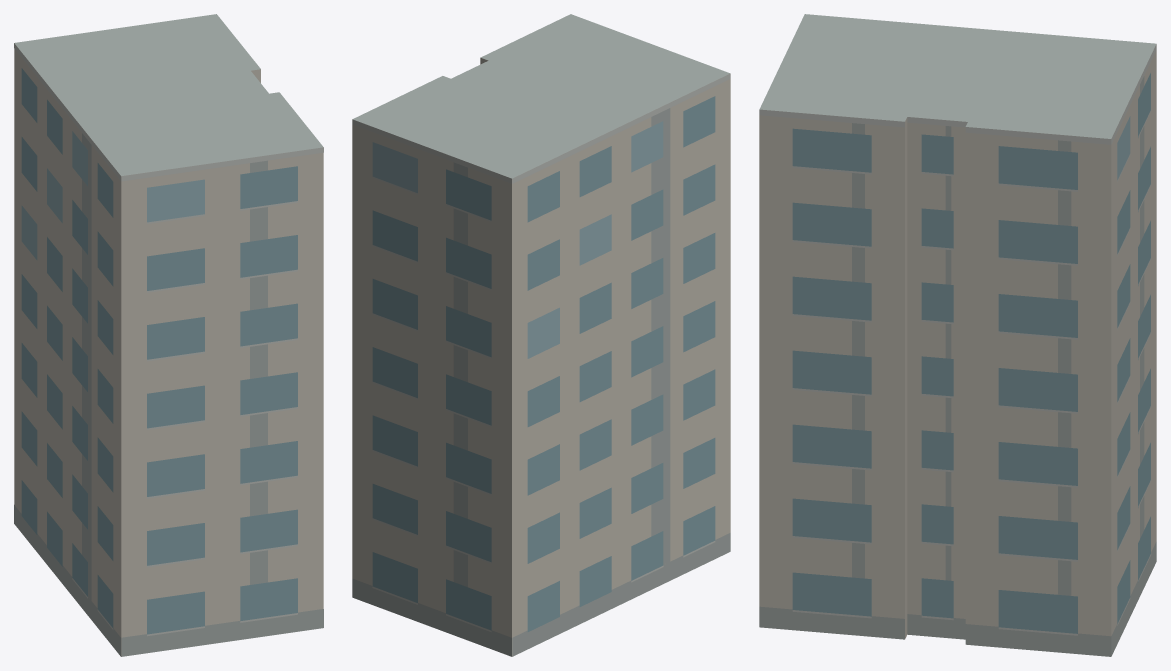
The model's file is survey-upis-32793617.glb.
3 views of the same model, side by side, from view 1: azimuth 30°, elevation 25°; view 2: azimuth 150°, elevation 25°; view 3: azimuth 270°, elevation 25° (orthographic). The views are drawn at different scales.
Visible parts, largest first — view 1: survey-upis-32793617.tmp; view 2: survey-upis-32793617.tmp; view 3: survey-upis-32793617.tmp.
Part boxes in pixels (x1=…): survey-upis-32793617.tmp: x1=14, y1=14, x2=323, y2=656; survey-upis-32793617.tmp: x1=352, y1=14, x2=730, y2=656; survey-upis-32793617.tmp: x1=759, y1=14, x2=1156, y2=656.
Bounding box in the file's own units: 11.3 × 21.8 × 15.17.
